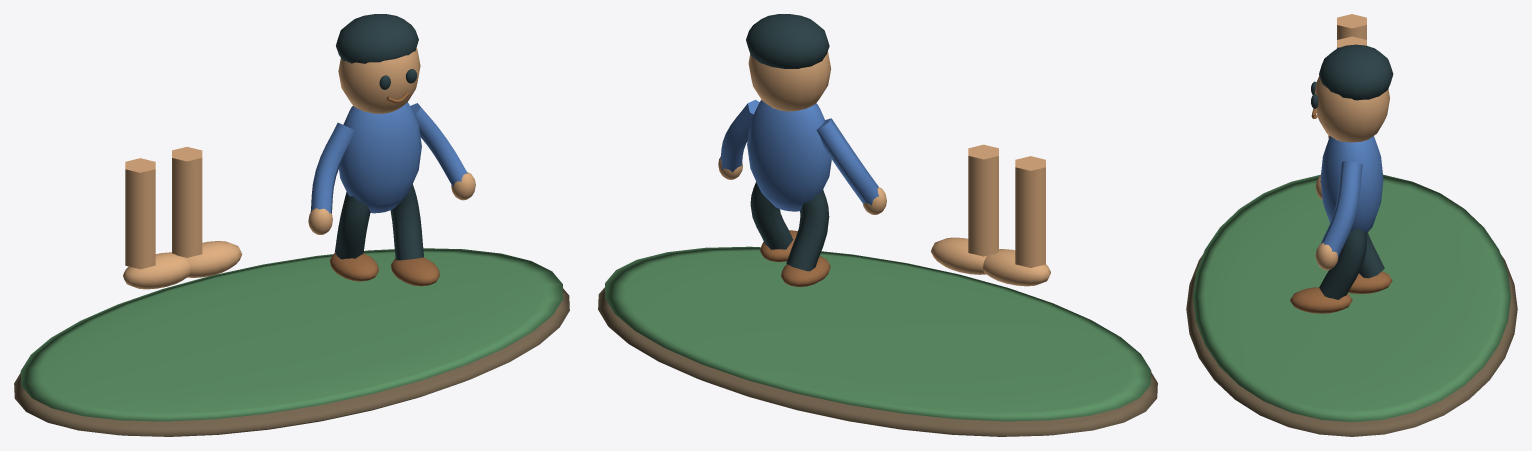
The model's file is young-son.glb.
The picture shows the model from 3 angles, left to right: view 1: azimuth 30°, elevation 25°; view 2: azimuth 150°, elevation 25°; view 3: azimuth 270°, elevation 25°; orthographic projection. The views are drawn at different scales.
Parts seen in each view (by area): view 1: young-son_surface_01, young-son_surface_02, young-son_surface_05, young-son_surface_00, young-son_surface_03, young-son_surface_04; view 2: young-son_surface_01, young-son_surface_02, young-son_surface_05, young-son_surface_00, young-son_surface_03, young-son_surface_04; view 3: young-son_surface_01, young-son_surface_00, young-son_surface_03, young-son_surface_05, young-son_surface_02, young-son_surface_04.
Part boxes in pixels (left/top/right/bottom): young-son_surface_01: left=20, top=248, right=563, bottom=421; young-son_surface_02: left=123, top=48, right=475, bottom=289; young-son_surface_05: left=310, top=102, right=467, bottom=213; young-son_surface_00: left=14, top=288, right=569, bottom=436; young-son_surface_03: left=335, top=14, right=423, bottom=260; young-son_surface_04: left=329, top=92, right=439, bottom=286; young-son_surface_01: left=604, top=246, right=1151, bottom=421; young-son_surface_02: left=718, top=51, right=1050, bottom=286; young-son_surface_05: left=720, top=99, right=878, bottom=211; young-son_surface_00: left=598, top=287, right=1157, bottom=436; young-son_surface_03: left=746, top=14, right=829, bottom=271; young-son_surface_04: left=760, top=230, right=830, bottom=287; young-son_surface_01: left=1193, top=174, right=1510, bottom=421; young-son_surface_00: left=1186, top=255, right=1517, bottom=436; young-son_surface_03: left=1311, top=44, right=1393, bottom=299; young-son_surface_05: left=1320, top=136, right=1383, bottom=257; young-son_surface_02: left=1314, top=14, right=1389, bottom=270; young-son_surface_04: left=1290, top=108, right=1392, bottom=313.
Bounding box in the file's own units: 4.56 × 2.64 × 2.5.
